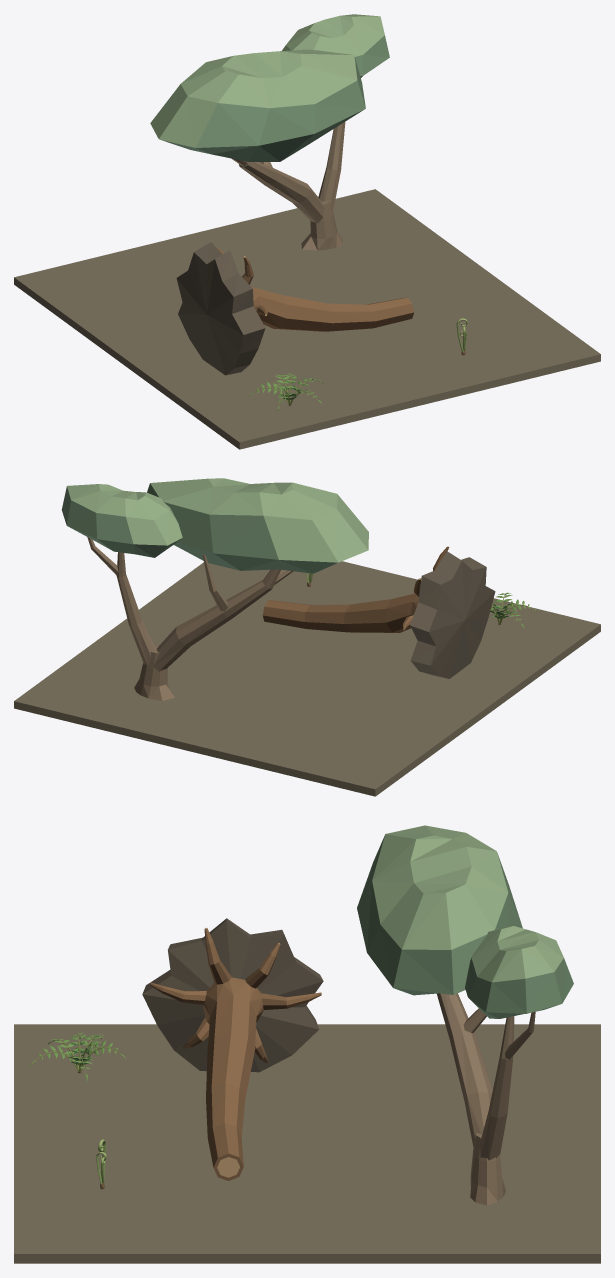
3 views of the same model, one above another, from view 1: azimuth 30°, elevation 25°; view 2: azimuth 150°, elevation 25°; view 3: azimuth 270°, elevation 25° (orthographic). The views are drawn at different scales.
Visible parts, largest first — view 1: SceneOnly_ContinuousFloor, tree__nature-lowfork-river-tree-01, wood__WholeUprightBrokenSoilRootplate, wood__ContinuousFallenTrunkAndExposedRoots; view 2: SceneOnly_ContinuousFloor, tree__nature-lowfork-river-tree-01, wood__WholeUprightBrokenSoilRootplate, wood__ContinuousFallenTrunkAndExposedRoots; view 3: SceneOnly_ContinuousFloor, tree__nature-lowfork-river-tree-01, wood__WholeUprightBrokenSoilRootplate, wood__ContinuousFallenTrunkAndExposedRoots.
Boxes of the visible parts, x1,y1,x2,y2 form: SceneOnly_ContinuousFloor: [14, 189, 600, 449]; tree__nature-lowfork-river-tree-01: [150, 14, 389, 250]; wood__WholeUprightBrokenSoilRootplate: [176, 242, 265, 375]; wood__ContinuousFallenTrunkAndExposedRoots: [217, 247, 414, 331]; SceneOnly_ContinuousFloor: [14, 561, 600, 796]; tree__nature-lowfork-river-tree-01: [61, 478, 368, 700]; wood__WholeUprightBrokenSoilRootplate: [410, 551, 495, 678]; wood__ContinuousFallenTrunkAndExposedRoots: [262, 546, 449, 632]; SceneOnly_ContinuousFloor: [14, 1024, 600, 1263]; tree__nature-lowfork-river-tree-01: [357, 825, 573, 1205]; wood__WholeUprightBrokenSoilRootplate: [142, 918, 323, 1072]; wood__ContinuousFallenTrunkAndExposedRoots: [150, 928, 321, 1180].
Bounding box in the file's own units: 6.2 × 3.7 × 6.7.
